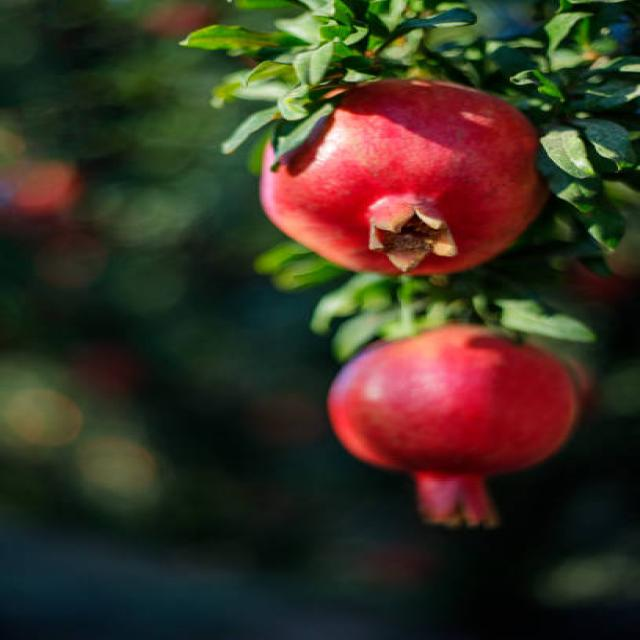Ripe: (259, 70, 546, 282), (316, 322, 586, 532)
